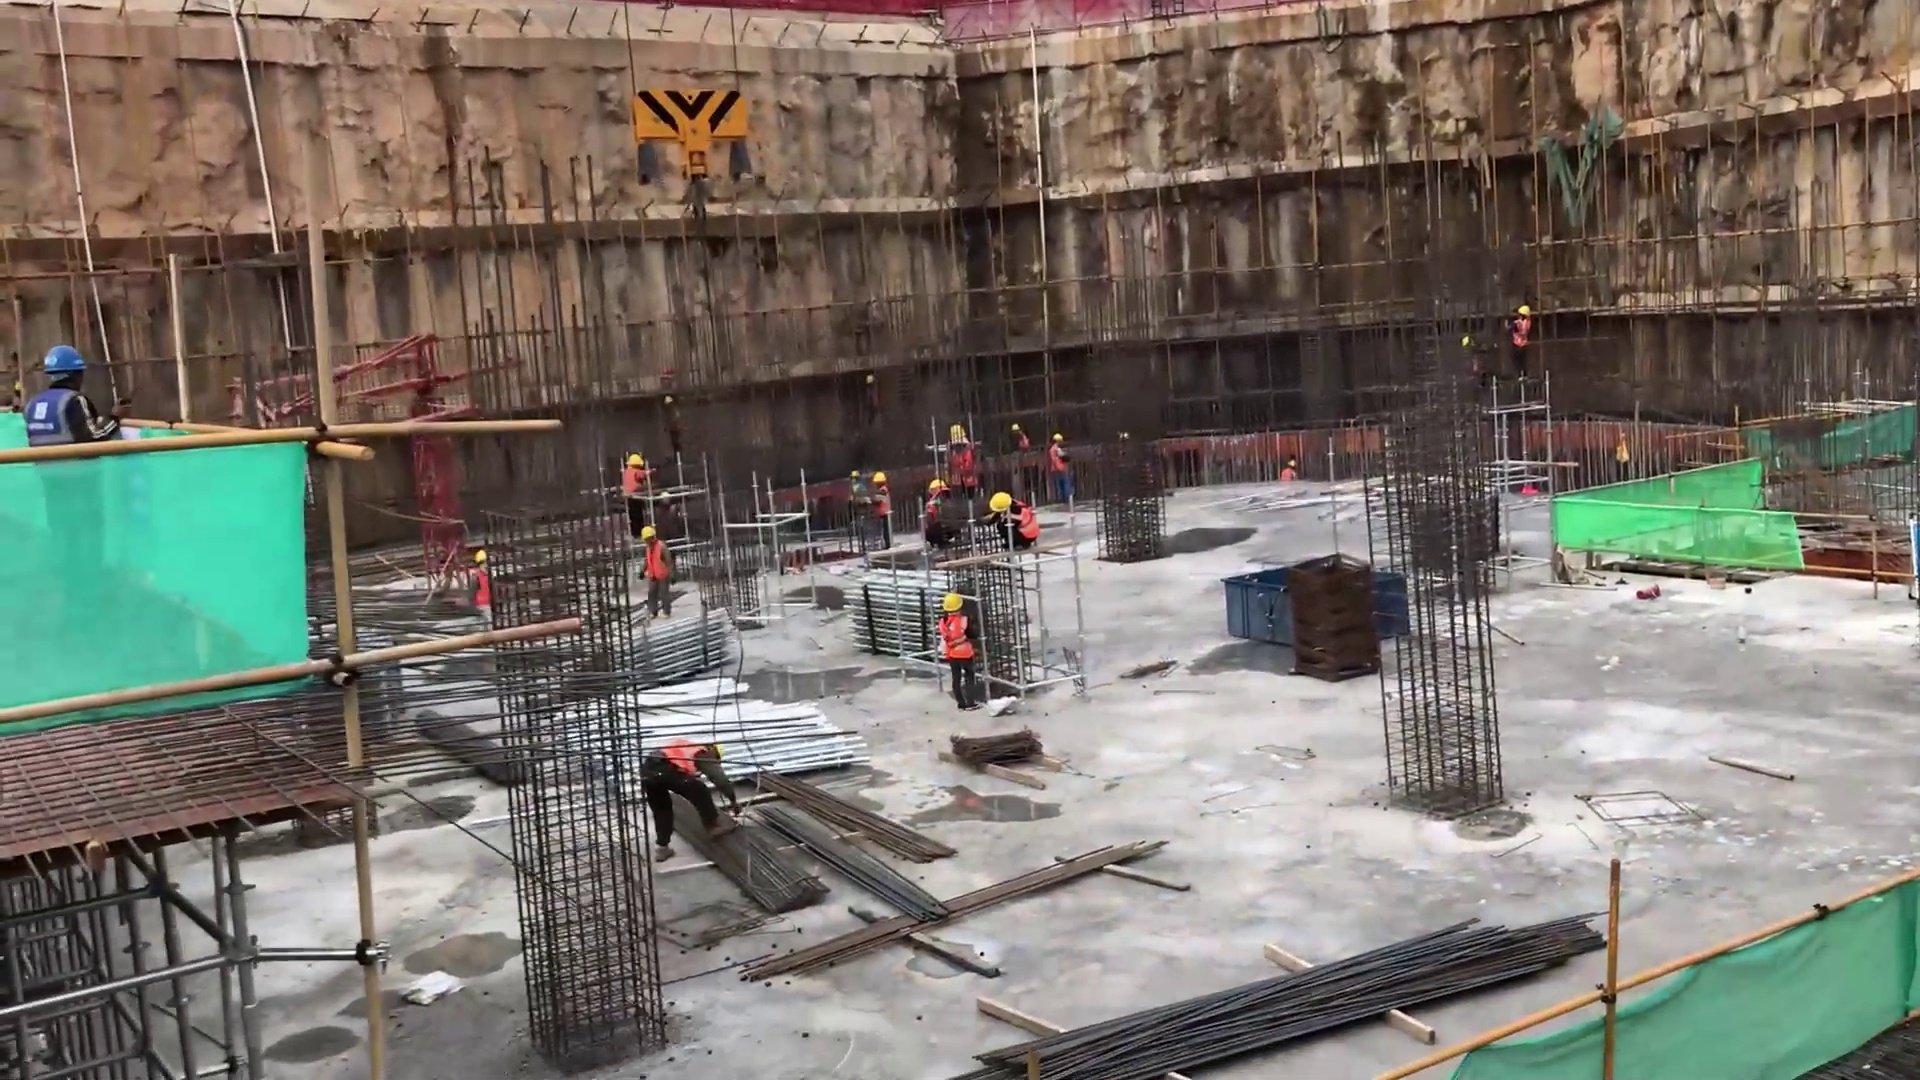helmet: (40, 342, 89, 374), (942, 594, 965, 616), (988, 492, 1013, 511), (624, 452, 646, 467), (639, 525, 657, 543), (928, 479, 948, 492), (872, 471, 887, 486)
person: (640, 735, 759, 870), (11, 337, 137, 442), (933, 592, 986, 719), (633, 524, 685, 623), (984, 492, 1047, 552), (927, 427, 986, 484), (467, 548, 508, 627), (1505, 301, 1540, 386), (920, 479, 963, 545), (1044, 431, 1076, 507), (618, 447, 662, 497), (843, 468, 871, 534), (871, 471, 895, 548), (1005, 416, 1031, 455), (1277, 454, 1300, 481)
vest: (18, 387, 100, 450), (659, 737, 709, 778), (938, 613, 977, 664), (1011, 501, 1040, 545), (644, 542, 676, 580), (618, 467, 648, 495), (471, 571, 490, 611), (1046, 445, 1068, 478), (951, 448, 978, 475), (1513, 319, 1531, 350), (877, 490, 895, 517)
